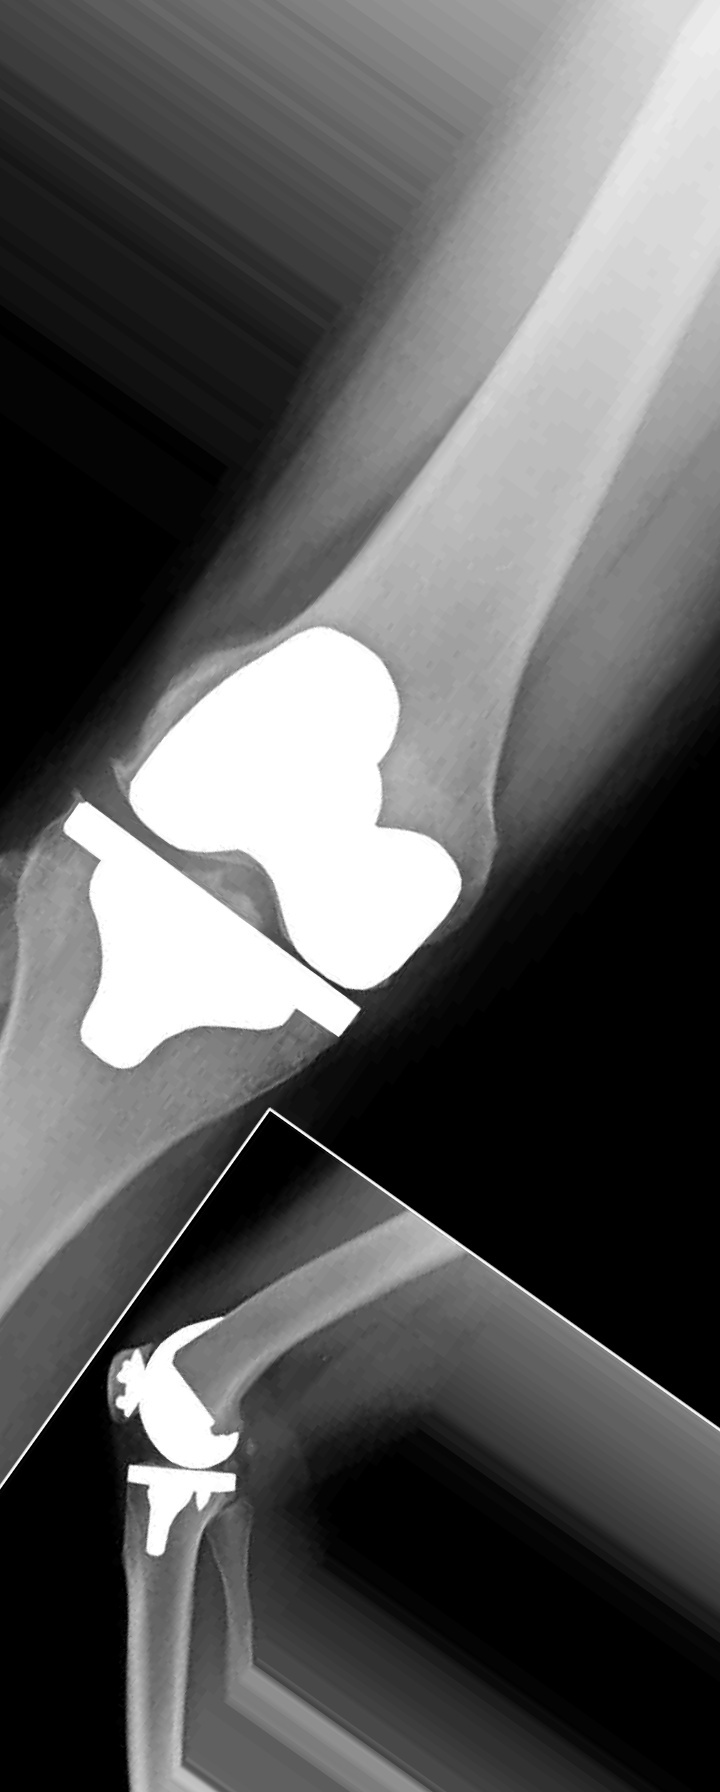Knee-TriathlonTritanium-Stryker: (62, 622, 469, 1079), (96, 1317, 262, 1559)
